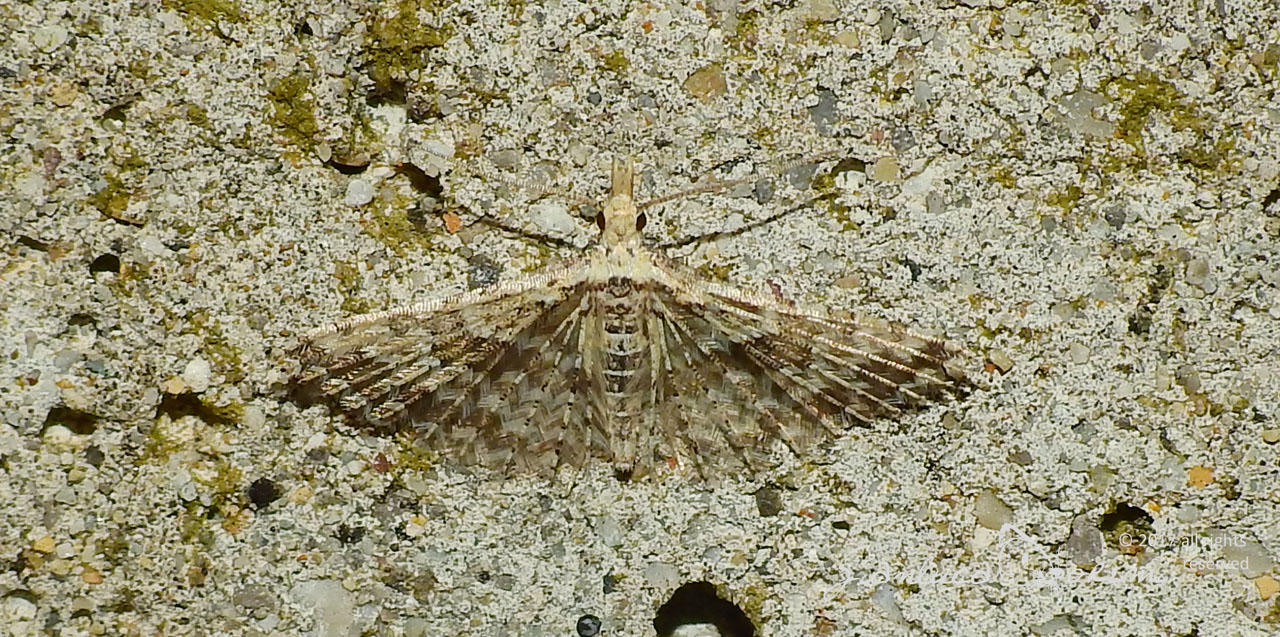Alucitidae: (270, 158, 992, 492)
moth: (268, 156, 990, 490)
